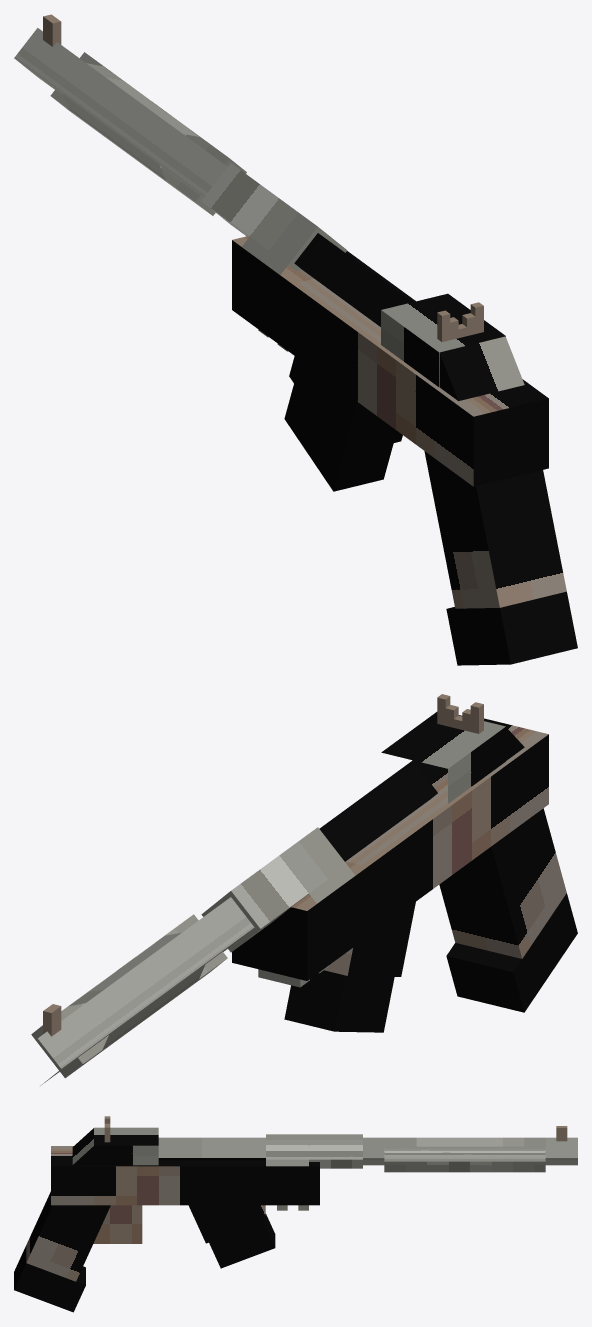
Rendered from jeg_semi_auto_rifle.glb.
3 views of the same model, one above another, from view 1: azimuth 30°, elevation 25°; view 2: azimuth 150°, elevation 25°; view 3: azimuth 270°, elevation 25° (orthographic). The views are drawn at different scales.
Visible parts, largest first — view 1: Gun; view 2: Gun; view 3: Gun.
Boxes of the visible parts, box(x1,y1,x2,y2) form: Gun: box(14, 14, 577, 665); Gun: box(31, 694, 577, 1085); Gun: box(14, 1116, 577, 1312).
Size of the model in its own units: 0.0562 by 0.2326 by 0.6555.
Materials: 1 (1 with a texture image).
